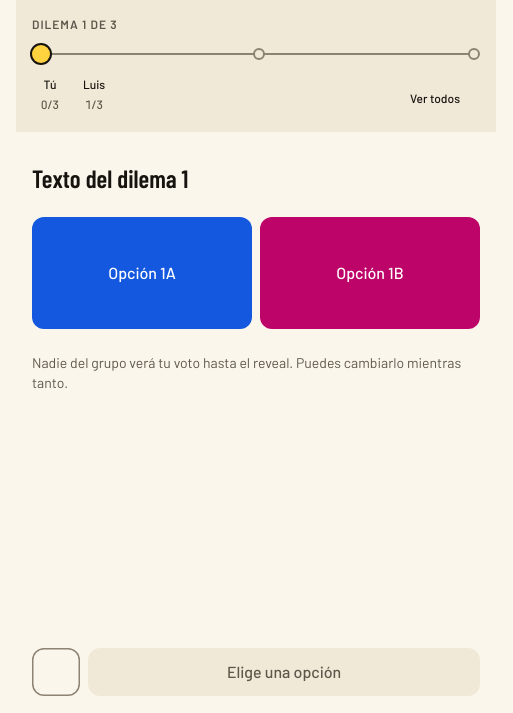
Test: DecisionPhase › when the room rejects an answer › should not move the player once the room saves the answer sent again
Step 1. Click the radio button labelled "Opción 1A" → (142, 273), box [32,217,252,329]
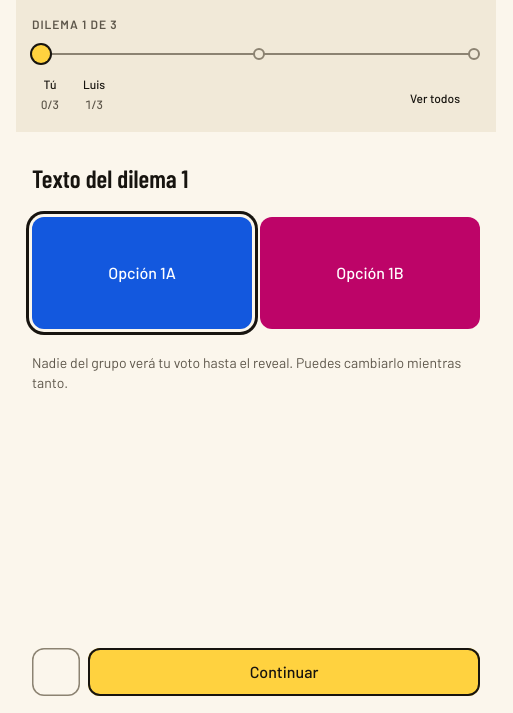
Step 2. Click the button "Continuar" → (284, 672), box [88,648,480,696]
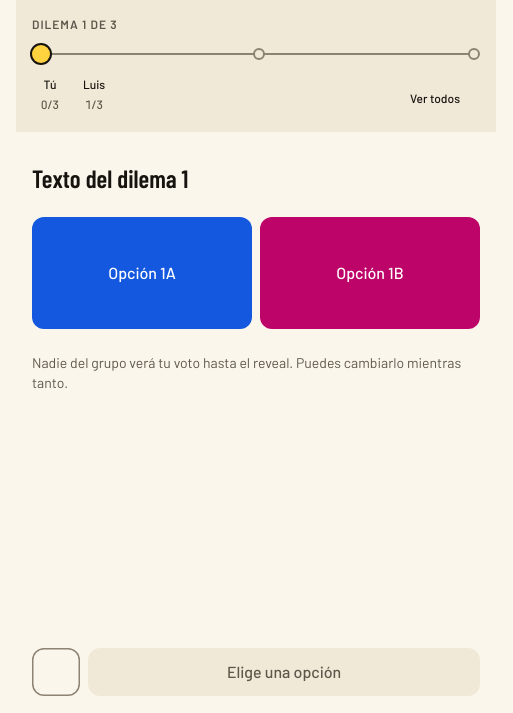
Step 3. Click the radio button labelled "Opción 1A" → (142, 273), box [32,217,252,329]
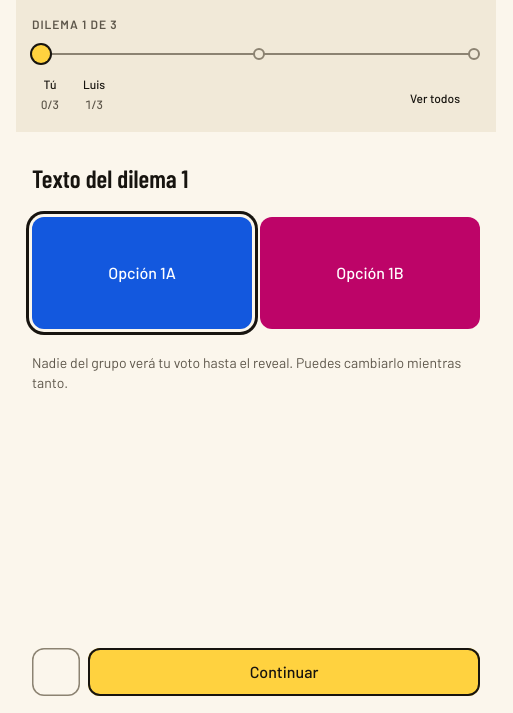
Step 4. Click the button "Continuar" → (284, 672), box [88,648,480,696]
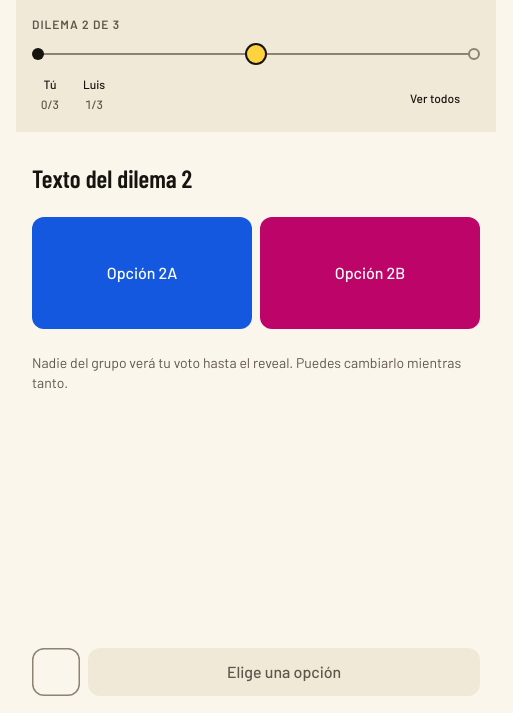
Expected: the heading "Texto del dilema 2" is shown, [32,163,192,193]
